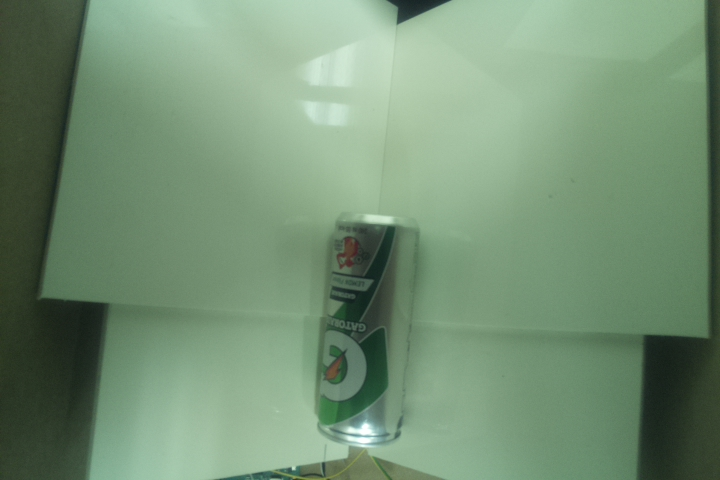can: (311, 210, 420, 451)
